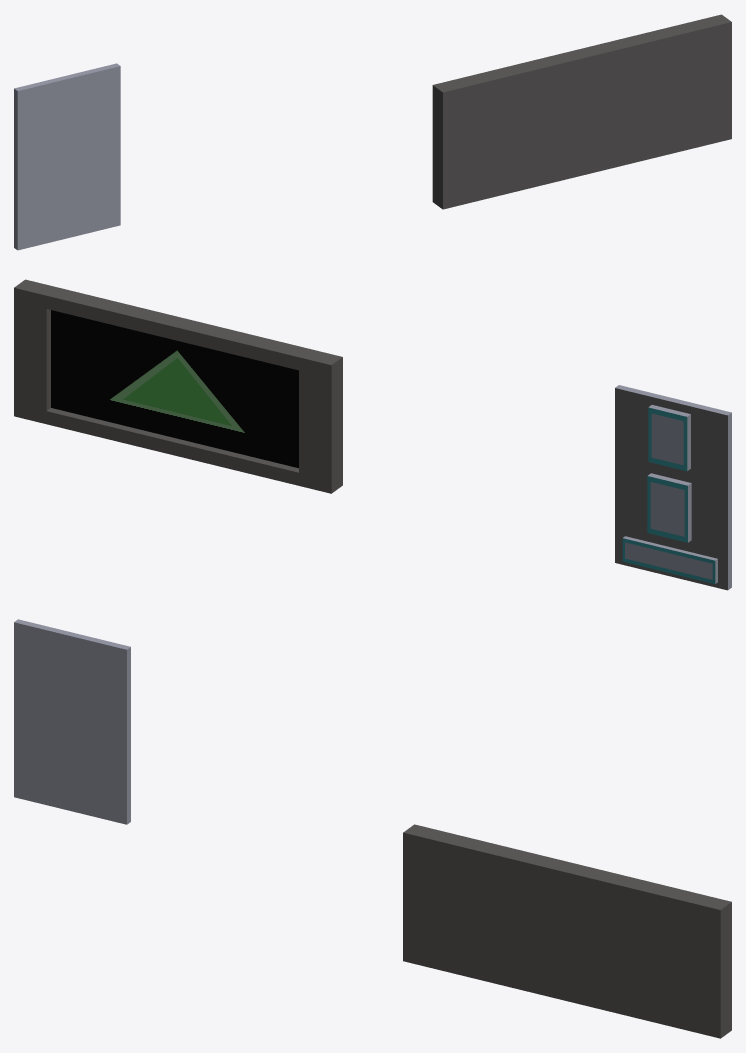
Rendered from Botonera.fbx.
The picture shows the model from 3 angles, top to bottom: view 1: azimuth 30°, elevation 25°; view 2: azimuth 150°, elevation 25°; view 3: azimuth 330°, elevation 25°; orthographic projection. The views are drawn at different scales.
Parts seen in each view (by area): view 1: Cube.011, Botonera.001; view 2: Cube.011, Botonera.001; view 3: Cube.011, Botonera.001.
Part boxes in pixels (left/top/right/bottom): Cube.011: left=432, top=14, right=731, bottom=209; Botonera.001: left=14, top=63, right=120, bottom=250; Cube.011: left=14, top=279, right=342, bottom=493; Botonera.001: left=615, top=385, right=731, bottom=590; Cube.011: left=403, top=824, right=731, bottom=1038; Botonera.001: left=14, top=619, right=130, bottom=824.
Size of the model in its own units: 191 by 50.45 by 20.74.
